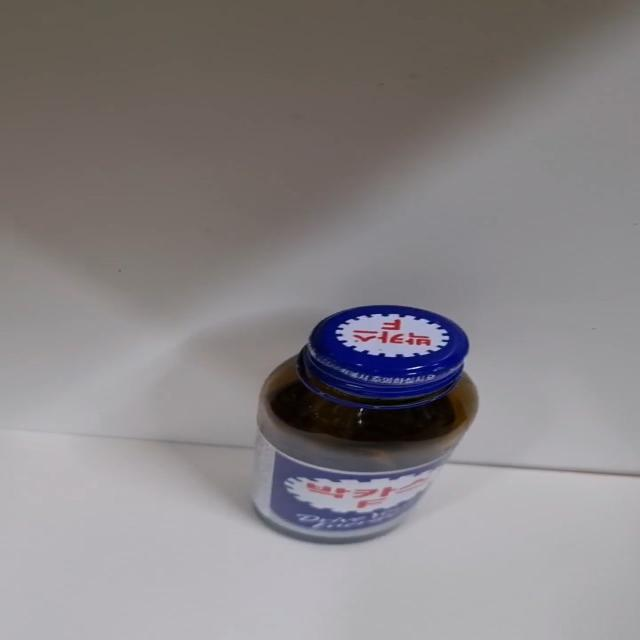Glass: (250, 305, 480, 547)
